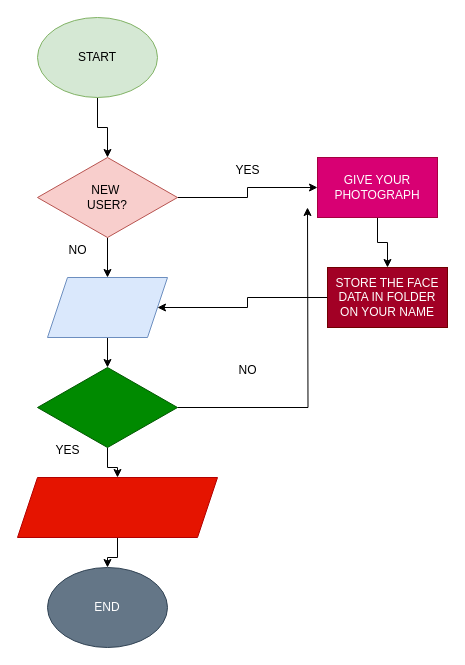
This 465x665 diagram has some shape labels left out. Here are the shapes that lost their labels. From the top down, the centre of each, then its label:
At (107,307): "RECOGINZE THE FACE".
At (107,407): "FACE RECGNIZED".
At (117,507): "STORED IS CSV FILE WITH REGISTRATION NUMBER AND DATE TIME OF ENTRY".
